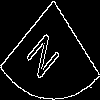N: (25, 25, 66, 83)
